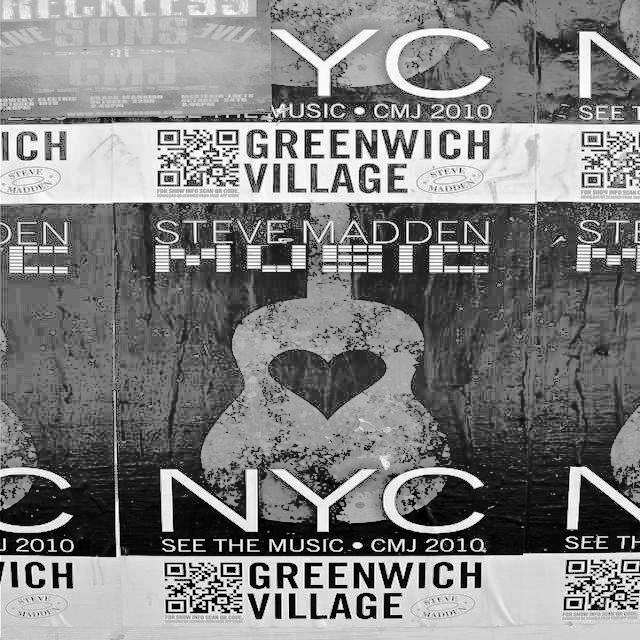qr_code: (157, 130, 238, 187), (164, 563, 242, 613), (563, 559, 639, 610), (582, 132, 639, 188)
